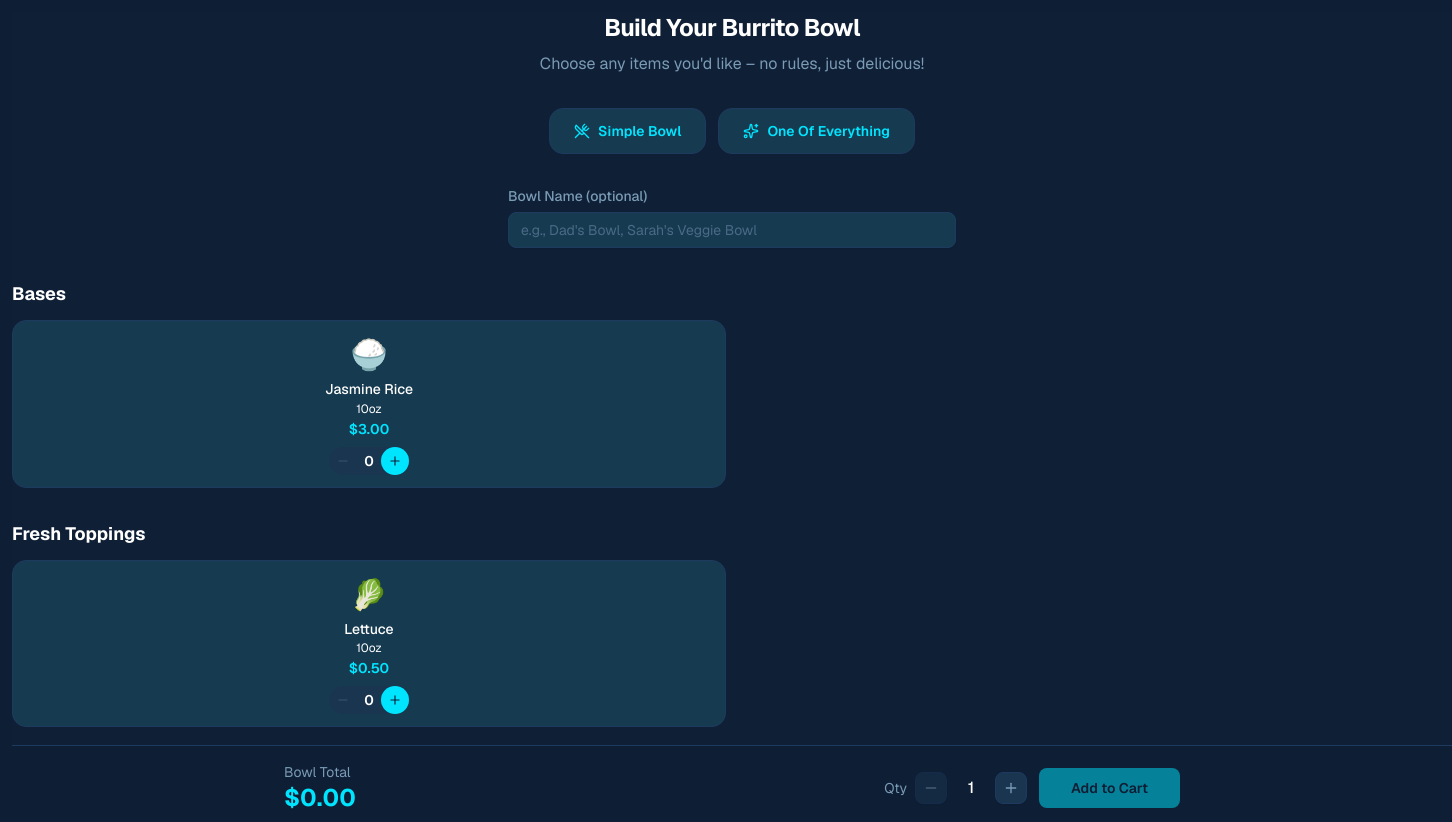
Test: BowlBuilder › updates running total when ingredient is clicked
Expected: the text "$0.00" is shown, left=284, top=782, right=356, bottom=814
// Click lettuce ($0.50) to add it
What coordinates should you click on to do the following:
click the text "Lettuce"
I would click on:
 (369, 629)
Its box is left=344, top=620, right=394, bottom=638.
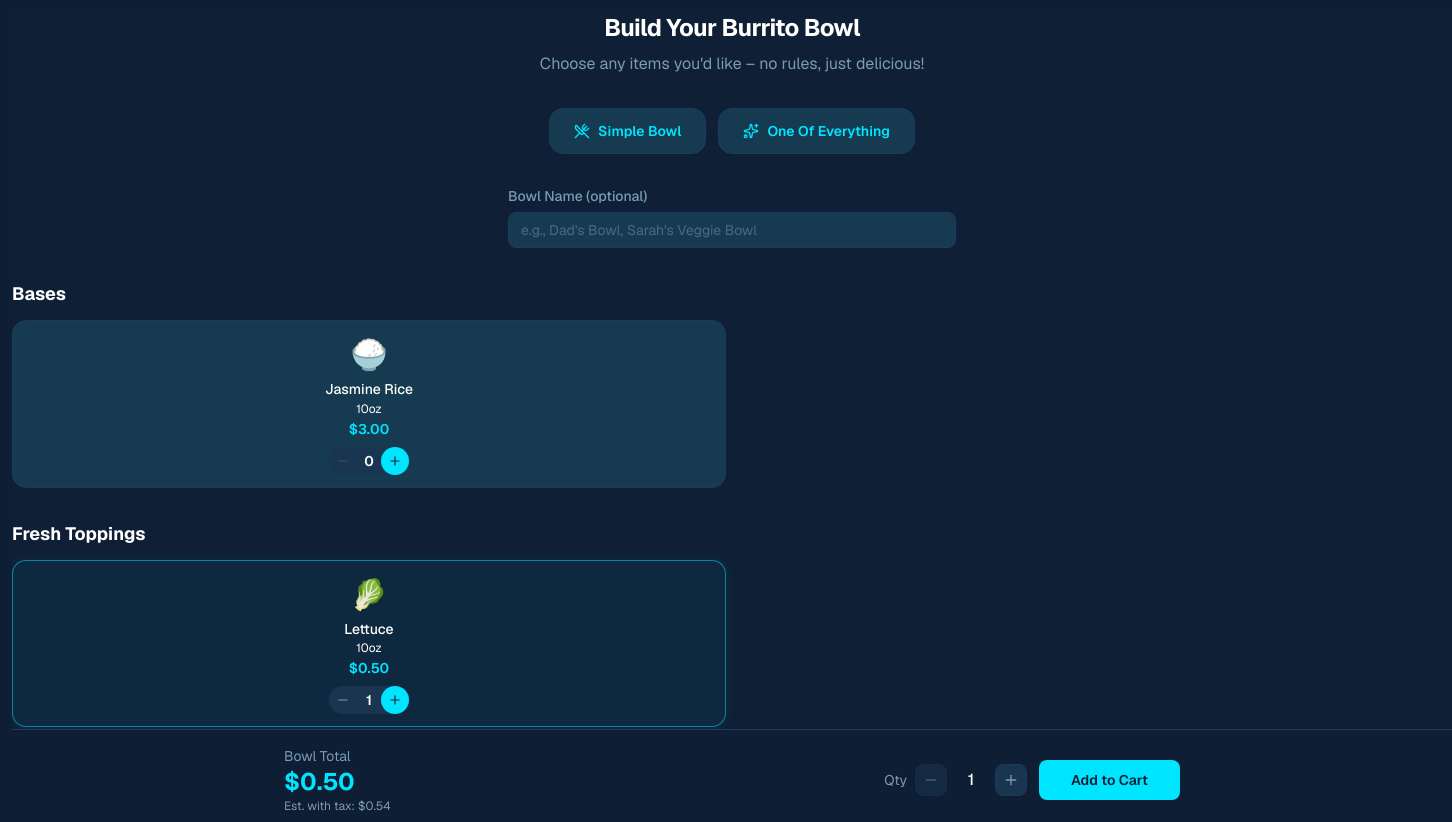
Now the text "$0.50" below "Bowl Total" is shown, box left=284, top=766, right=355, bottom=797
